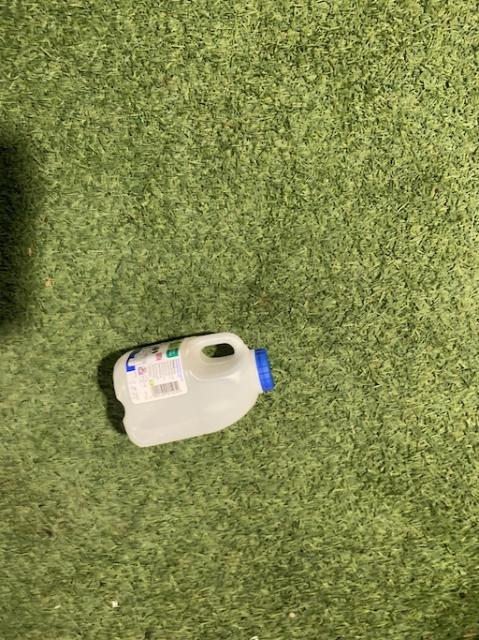plastic: (112, 332, 273, 445)
